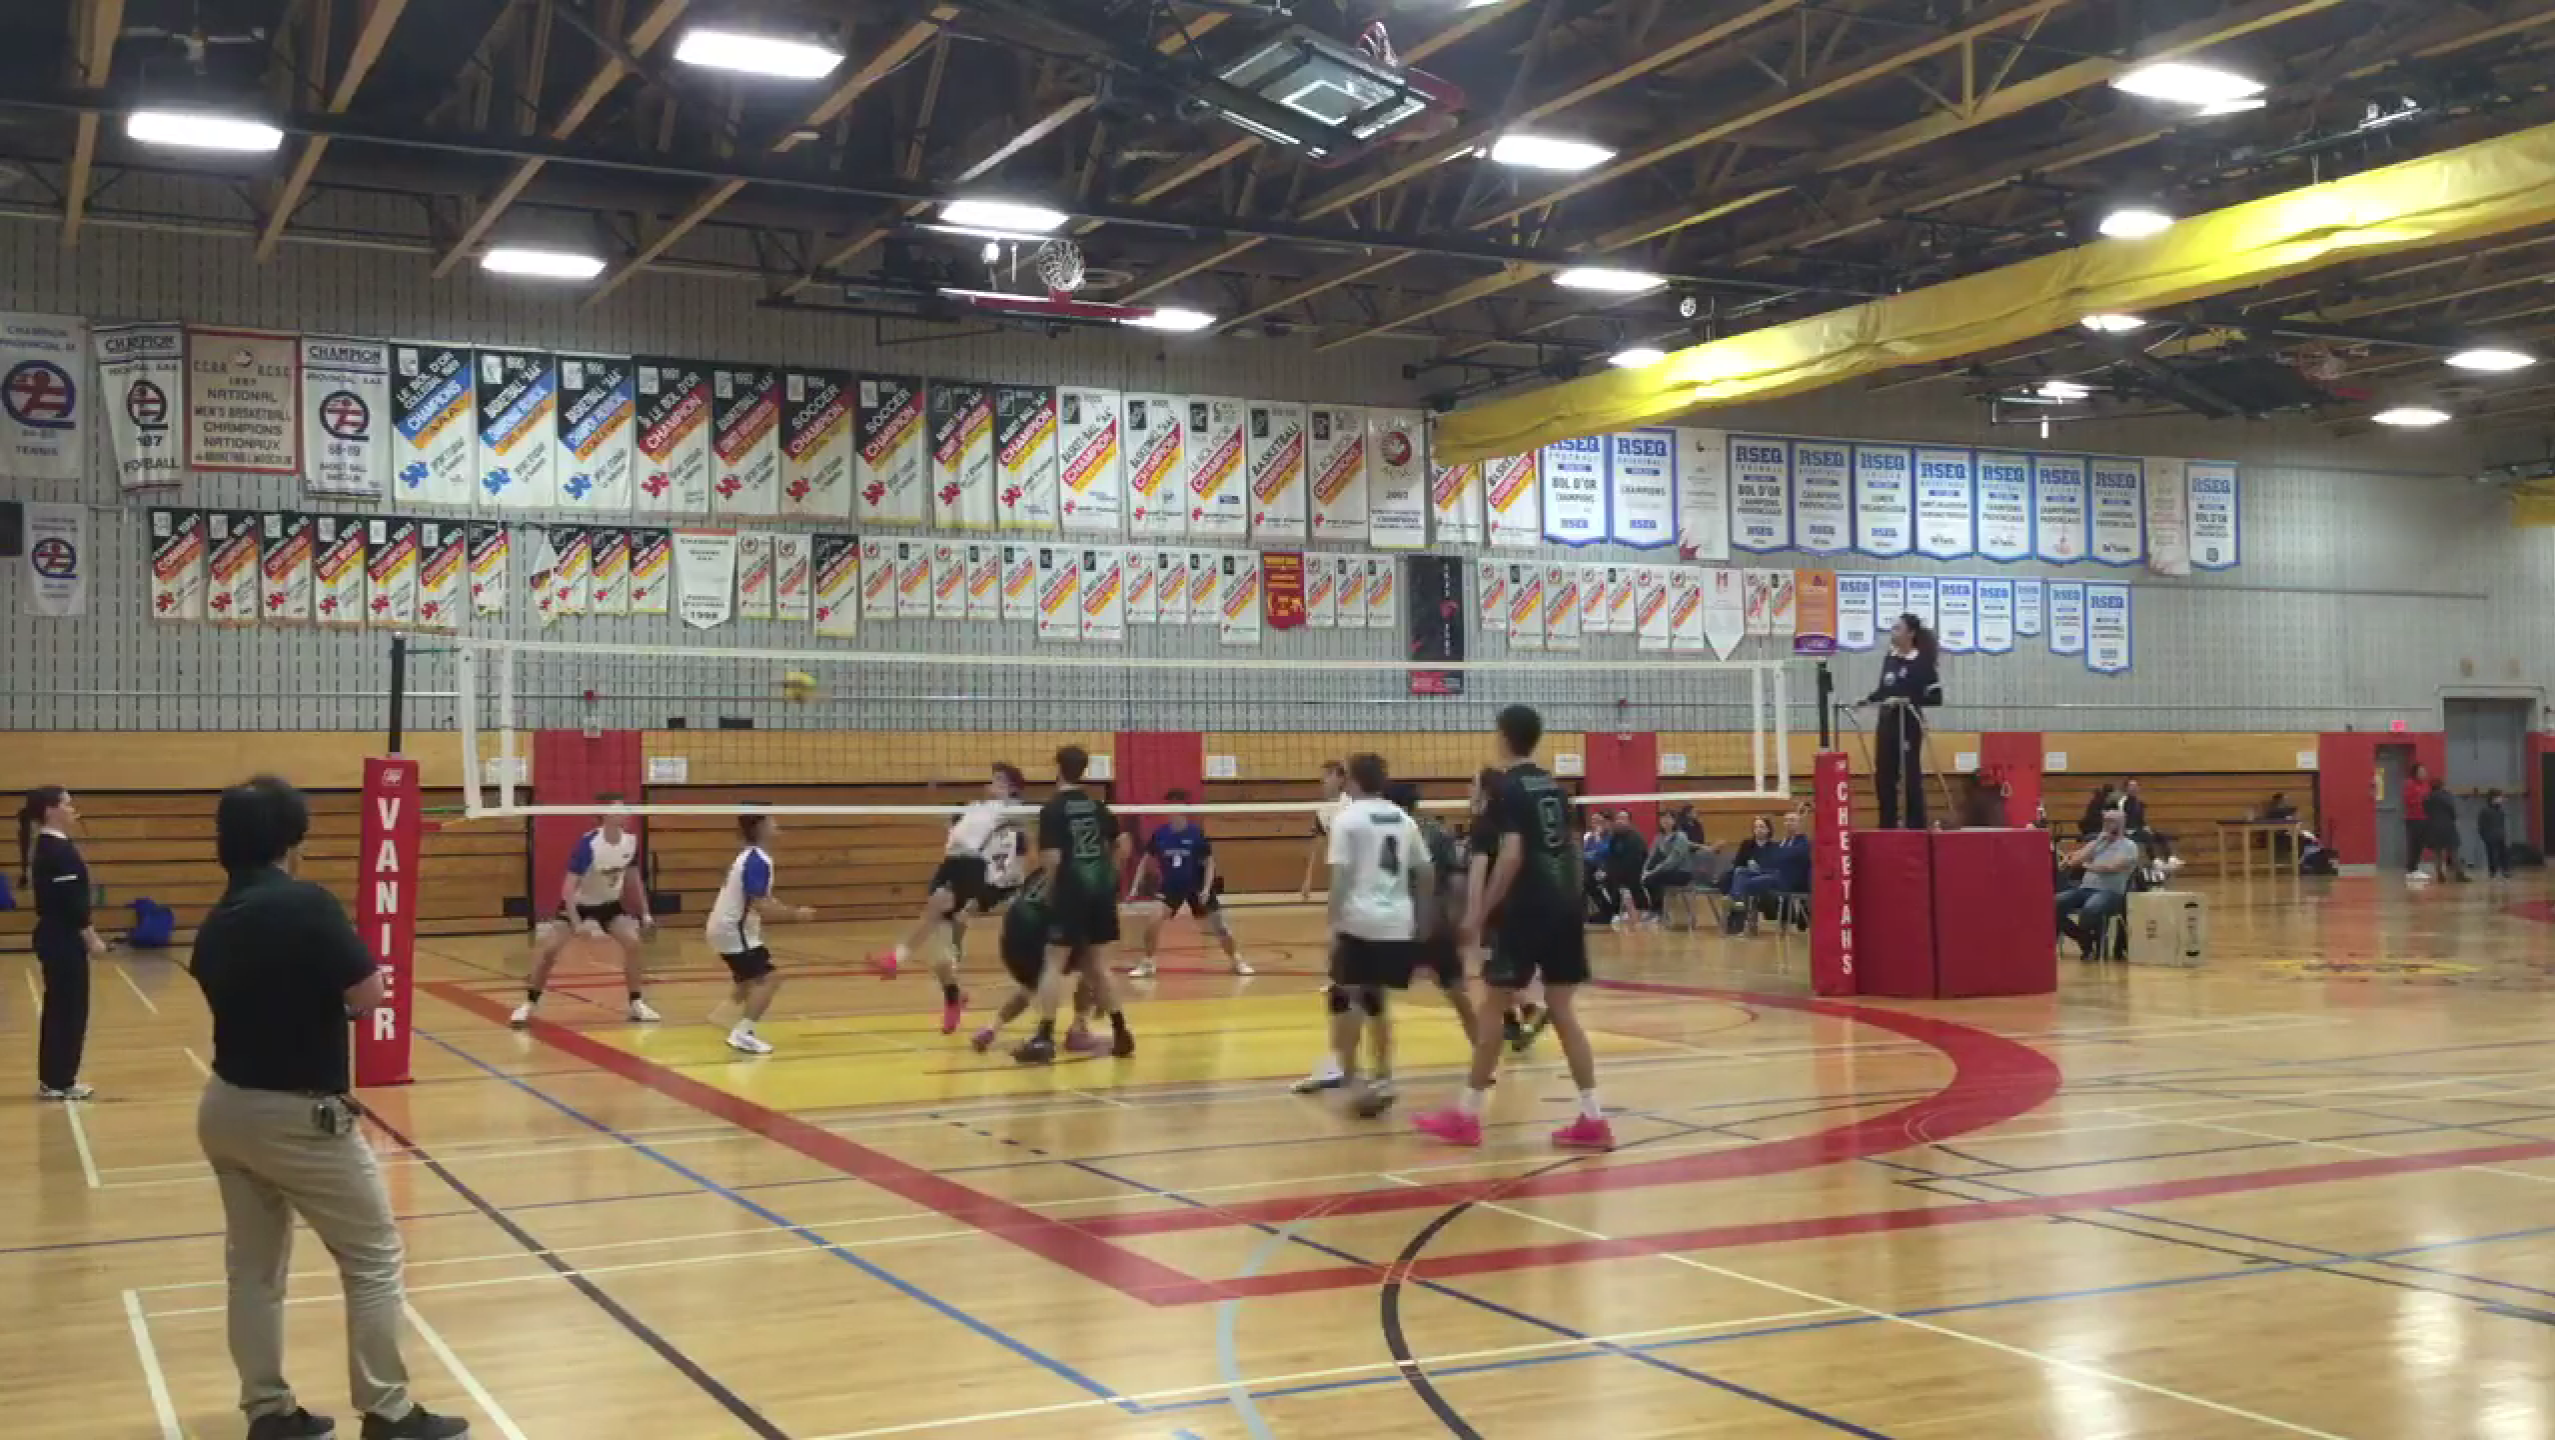Ball: (779, 670, 818, 707)
